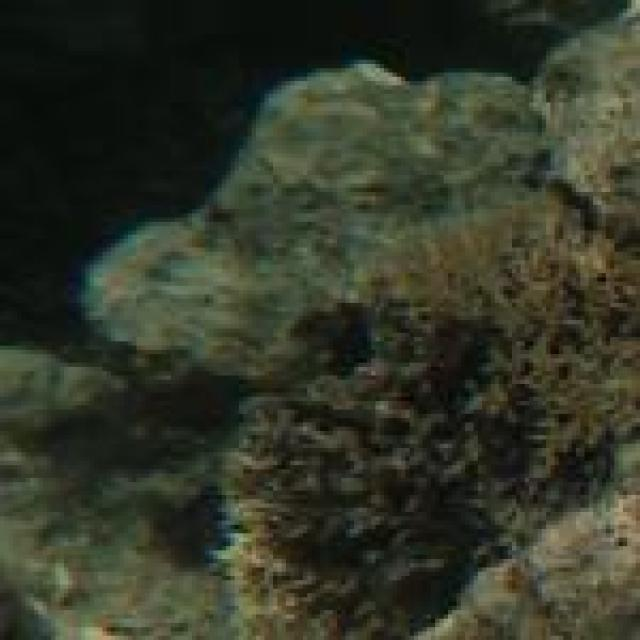Dead Coral: (200, 205, 640, 640)
